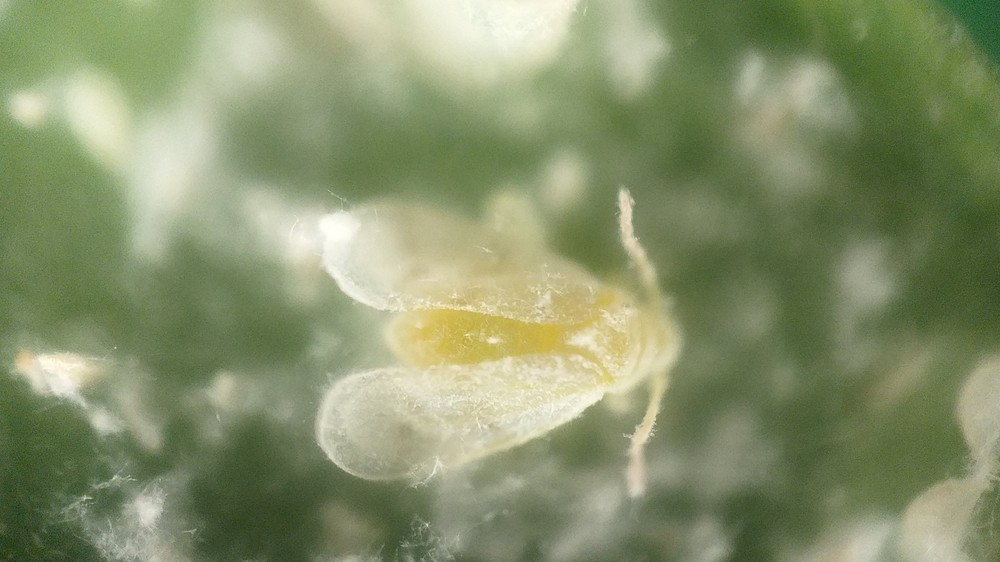Mosca Blanca: (289, 164, 701, 520)
